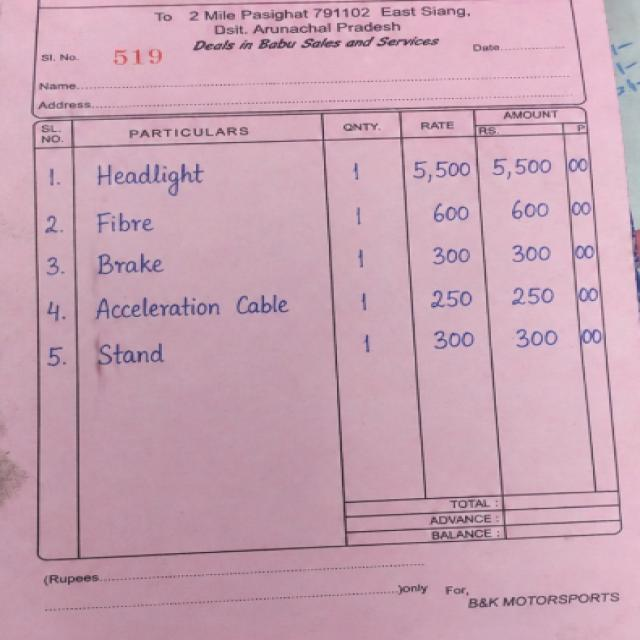date: (473, 38, 570, 57)
deals in babu sales and services: (188, 36, 465, 57)
items: (11, 116, 612, 391)
tot: (428, 490, 597, 510)
